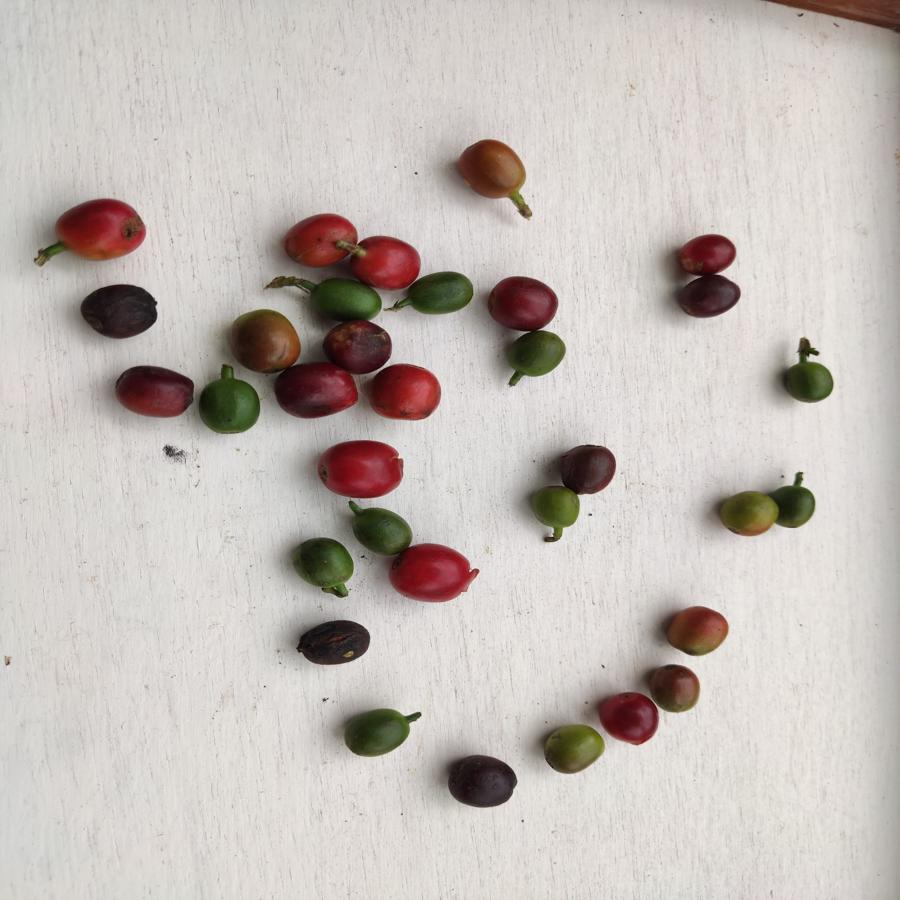Inmaduro: (197, 376, 265, 436), (343, 704, 412, 757), (290, 537, 360, 589), (313, 275, 384, 323), (410, 268, 476, 318), (504, 332, 568, 381), (779, 358, 835, 411), (350, 505, 411, 550), (775, 480, 818, 533)
Maduro: (52, 196, 147, 266), (389, 545, 477, 609), (316, 438, 404, 497), (370, 365, 446, 423), (284, 212, 357, 266), (353, 234, 419, 288), (672, 234, 737, 273)
Pinton: (458, 139, 532, 202), (227, 309, 301, 371), (666, 600, 732, 660), (538, 718, 604, 775), (714, 488, 781, 541), (650, 663, 704, 712), (534, 484, 584, 531)
Sobremaduro: (79, 281, 165, 342), (113, 363, 199, 421), (274, 365, 360, 420), (485, 271, 560, 330), (443, 755, 519, 810), (292, 618, 371, 668), (555, 441, 621, 498), (322, 319, 389, 374), (678, 271, 744, 326), (601, 692, 661, 747)
